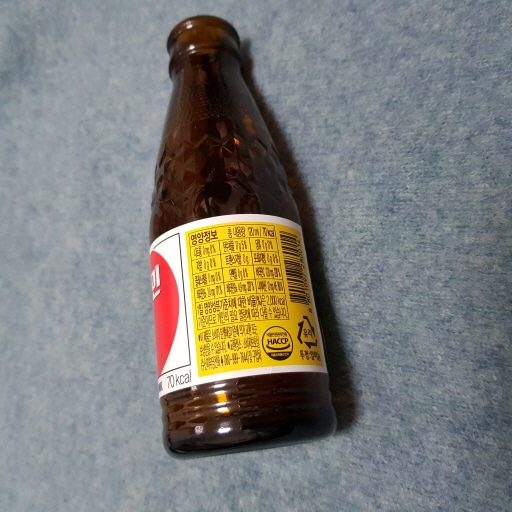Glass_3: (147, 16, 346, 461)
